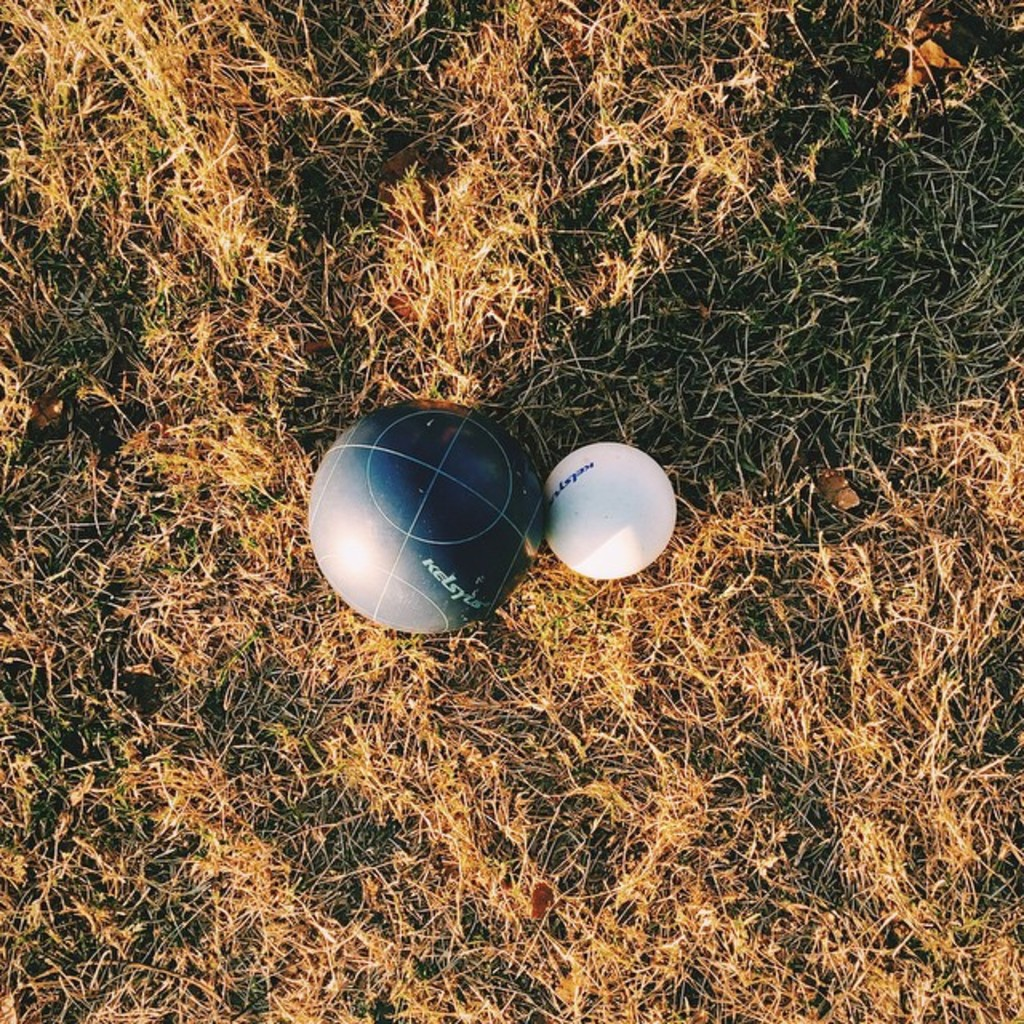Ball: (304, 400, 554, 638), (547, 445, 675, 582)
